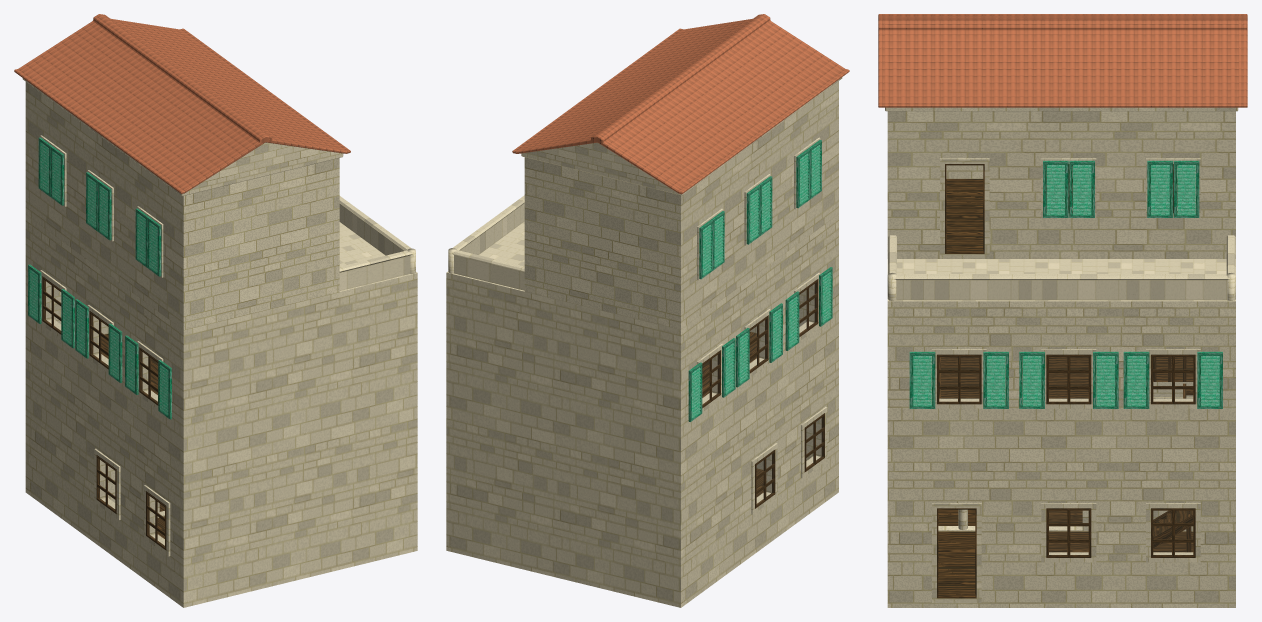
Rendered from house_3_floors_terrace.gltf.
3 renders of one model, left to right at view 1: azimuth 30°, elevation 25°; view 2: azimuth 150°, elevation 25°; view 3: azimuth 270°, elevation 25°, orthographic. The views are drawn at different scales.
Visible parts, largest first — view 1: house_1_3f_t1.001; view 2: house_1_3f_t1.001; view 3: house_1_3f_t1.001.
Boxes of the visible parts, x1,y1,x2,y2 form: house_1_3f_t1.001: [14, 14, 417, 607]; house_1_3f_t1.001: [446, 14, 849, 607]; house_1_3f_t1.001: [878, 14, 1247, 607].
Size of the model in its own units: 6.28 by 11.15 by 7.42.
6 materials, 5 textured.
